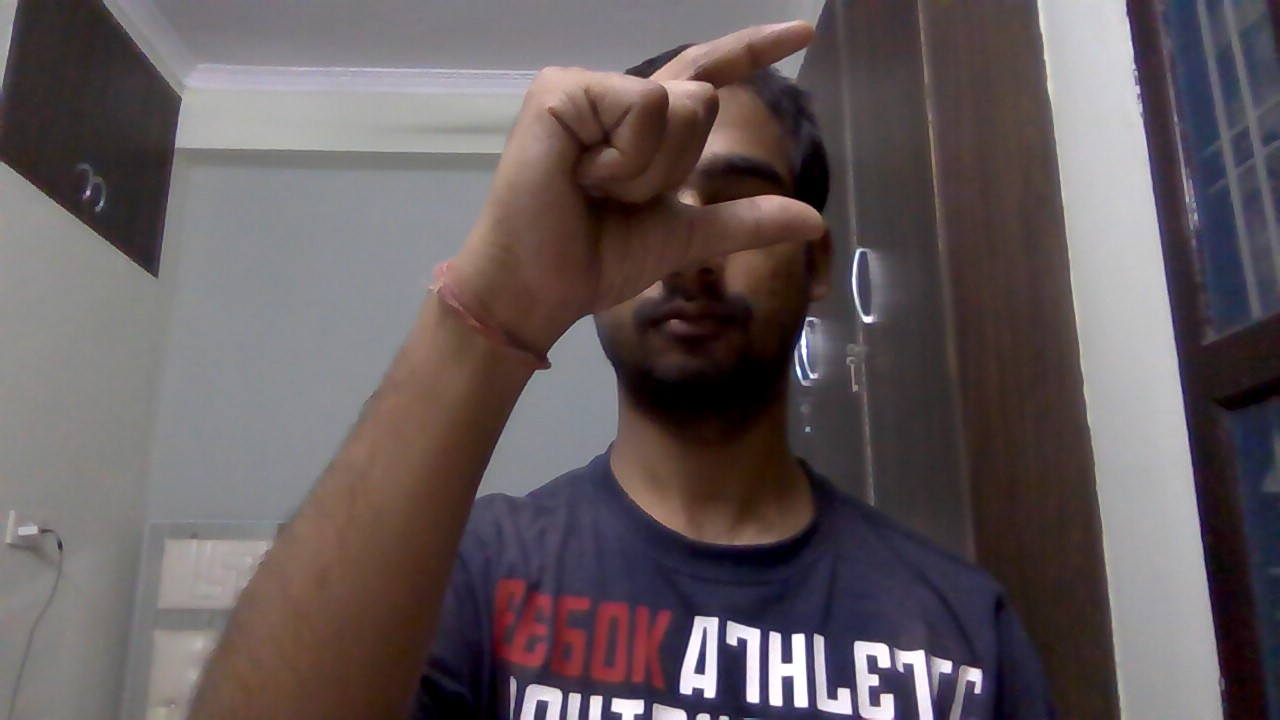Paste: (466, 15, 860, 349)
